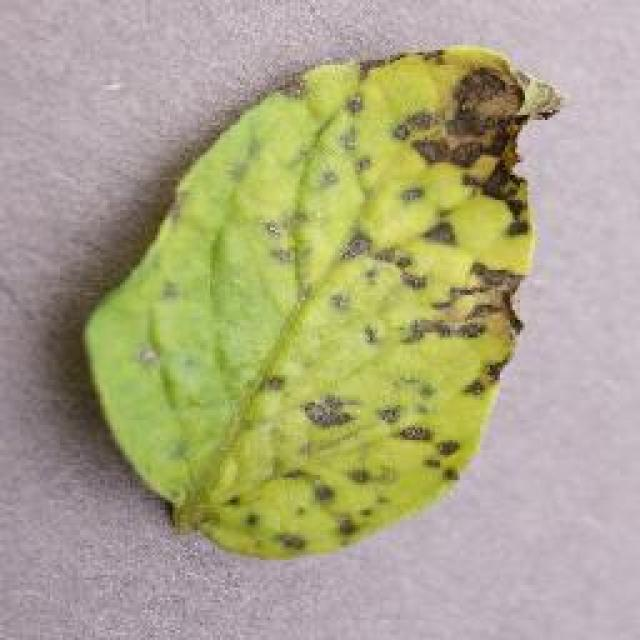Tomato___Septoria_leaf_spot: (88, 48, 558, 555)
